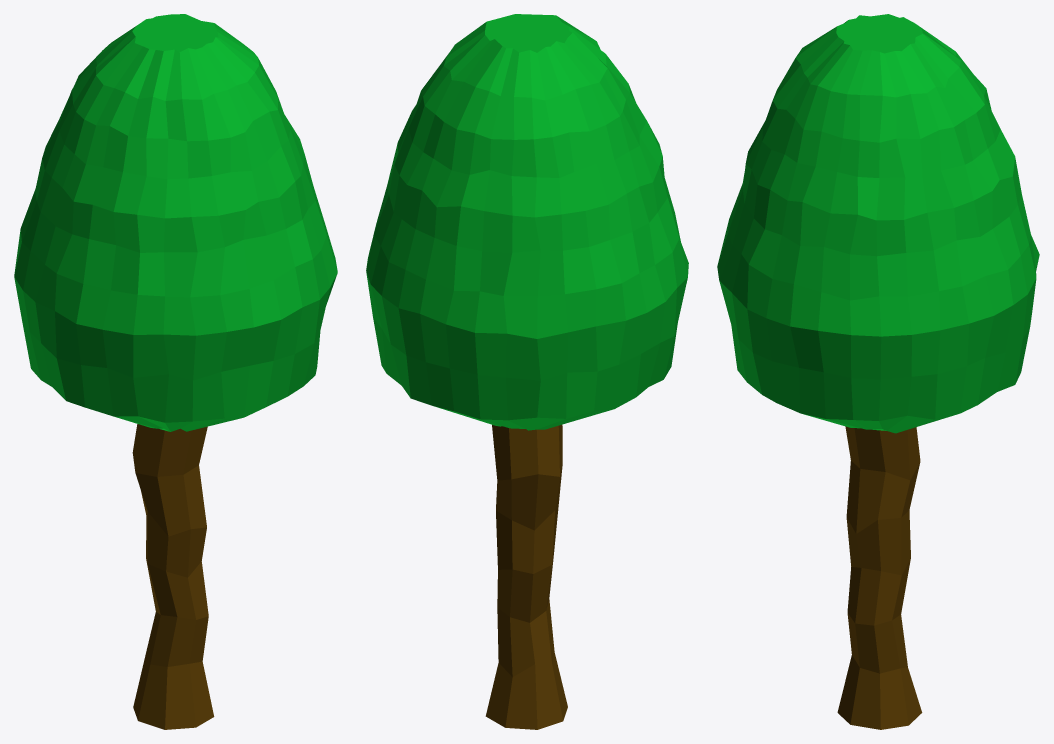
Rendered from tree1.glb.
The picture shows the model from 3 angles, left to right: view 1: azimuth 30°, elevation 25°; view 2: azimuth 150°, elevation 25°; view 3: azimuth 270°, elevation 25°; orthographic projection.
Parts seen in each view (by area): view 1: Leaves, Trunk; view 2: Leaves, Trunk; view 3: Leaves, Trunk.
Part boxes in pixels (box(x1,y1,x2,y2)): Leaves: box(14, 14, 337, 431); Trunk: box(132, 424, 214, 729); Leaves: box(366, 14, 688, 430); Trunk: box(485, 424, 567, 729); Leaves: box(717, 14, 1039, 433); Trunk: box(837, 426, 922, 729).
Bounding box in the file's own units: 2.96 × 6.88 × 2.95.
